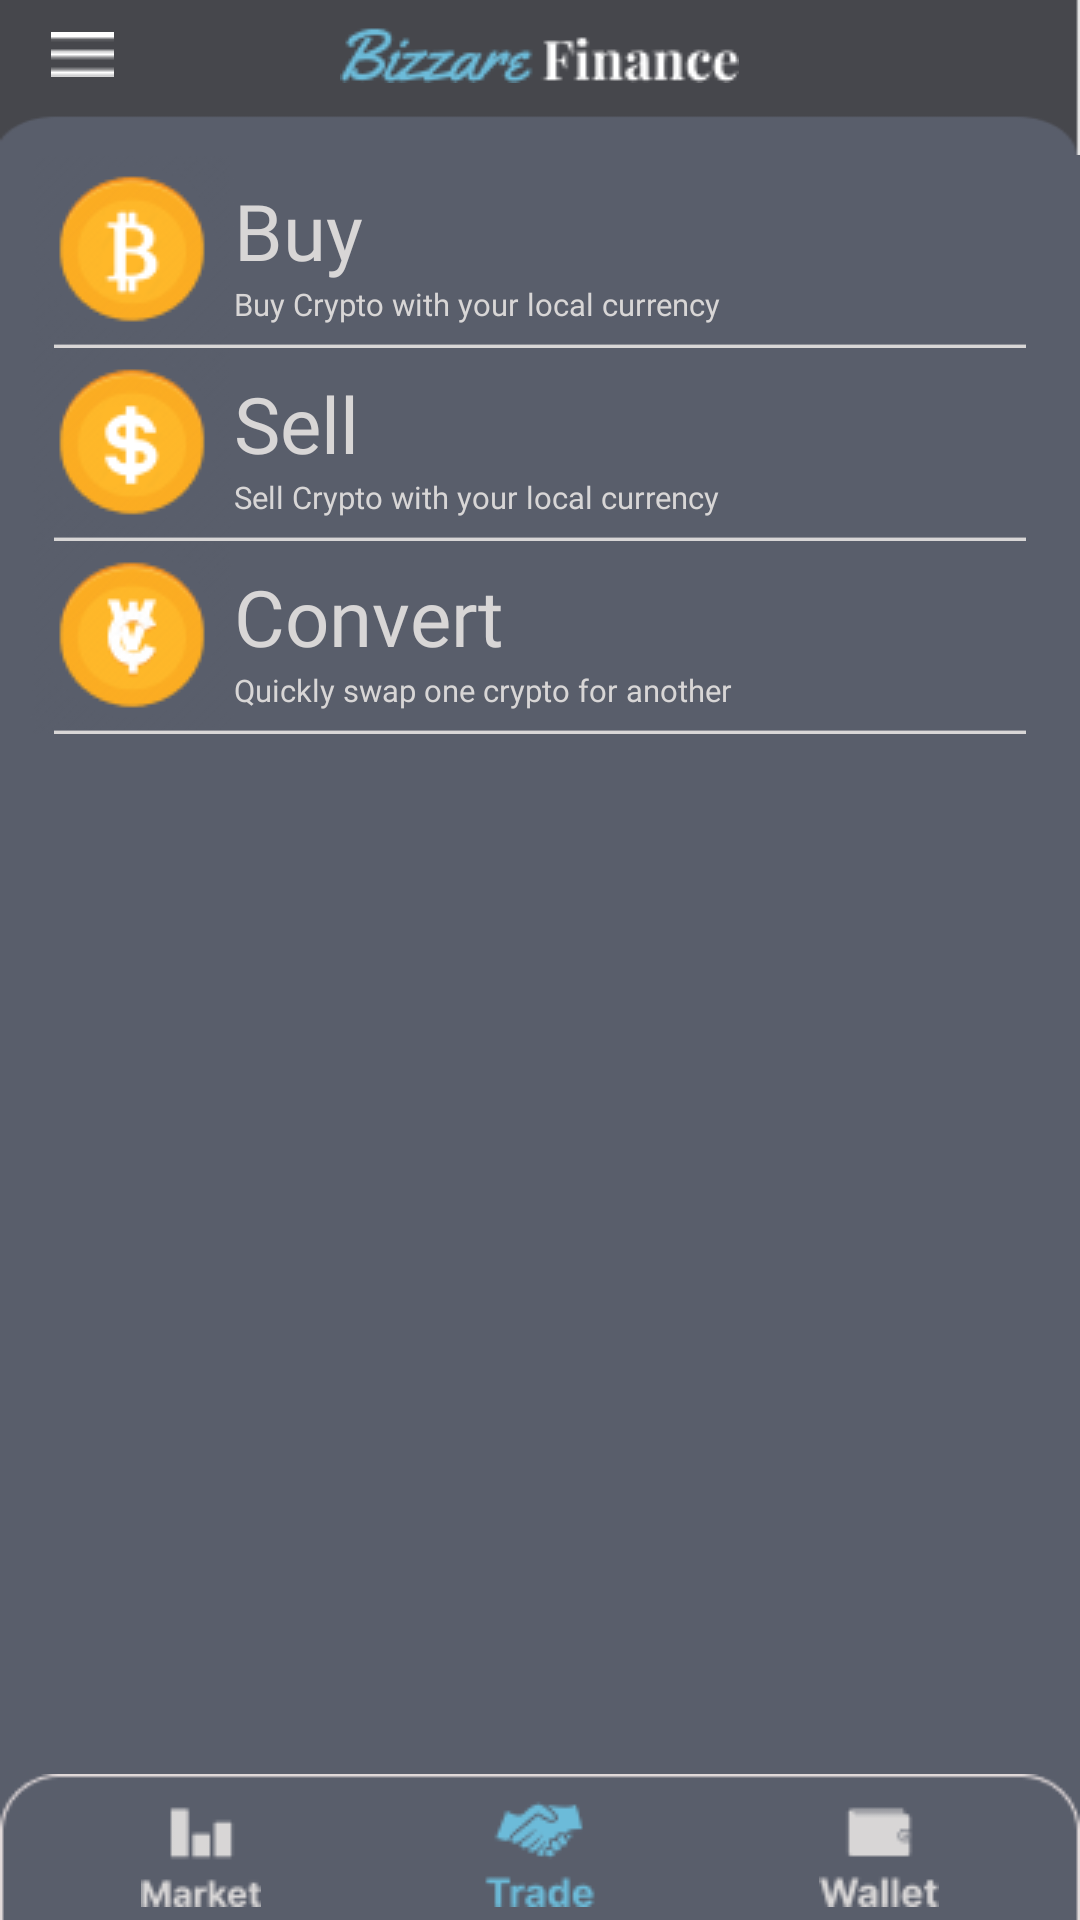

Screen size 1080×1920. Icon name, then its center in pixels as [x,y]:
menu: [82,54]
